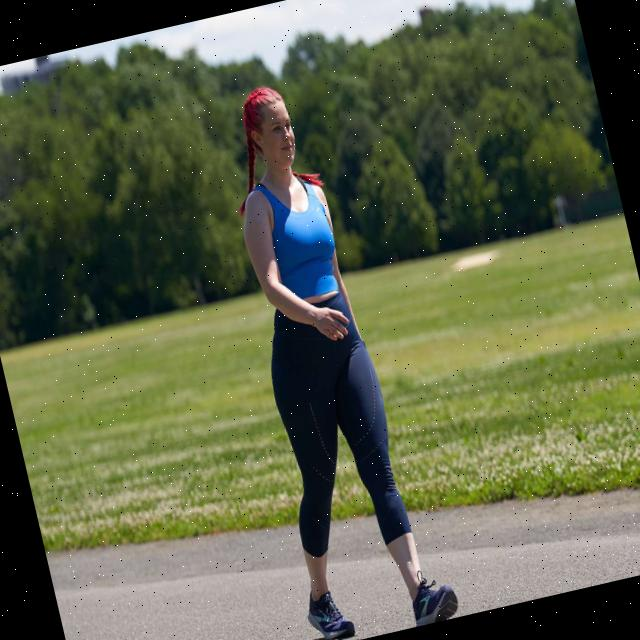Person: (187, 70, 460, 640)
